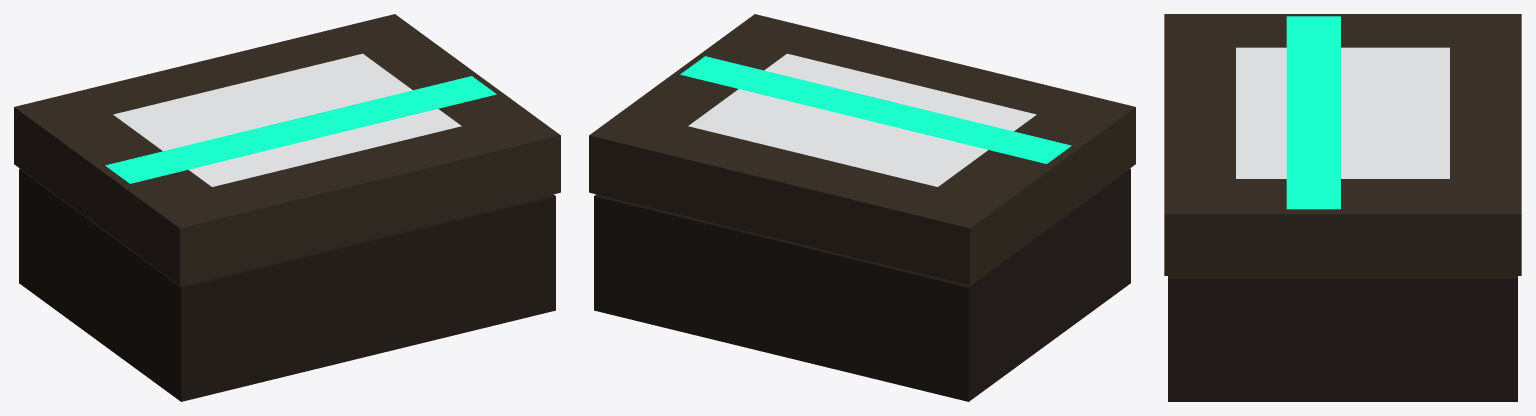
The model's file is forensic-package.glb.
The picture shows the model from 3 angles, left to right: view 1: azimuth 30°, elevation 25°; view 2: azimuth 150°, elevation 25°; view 3: azimuth 270°, elevation 25°; orthographic projection. The views are drawn at different scales.
Visible parts, largest first — view 1: CartonLid, CartonBottom, LabelBarcode, SecuritySeal; view 2: CartonLid, CartonBottom, LabelBarcode, SecuritySeal; view 3: CartonLid, CartonBottom, LabelBarcode, SecuritySeal.
Boxes of the visible parts, box(x1,y1,x2,y2) form: CartonLid: box(14, 14, 560, 285); CartonBottom: box(19, 168, 555, 401); LabelBarcode: box(113, 53, 461, 186); SecuritySeal: box(105, 76, 496, 183); CartonLid: box(589, 14, 1135, 285); CartonBottom: box(594, 168, 1130, 401); LabelBarcode: box(688, 53, 1036, 186); SecuritySeal: box(680, 56, 1071, 163); CartonLid: box(1164, 14, 1521, 275); CartonBottom: box(1168, 276, 1517, 401); LabelBarcode: box(1236, 47, 1449, 178); SecuritySeal: box(1286, 16, 1340, 209).
Bounding box in the file's own units: 2.44 × 1.08 × 1.84.
